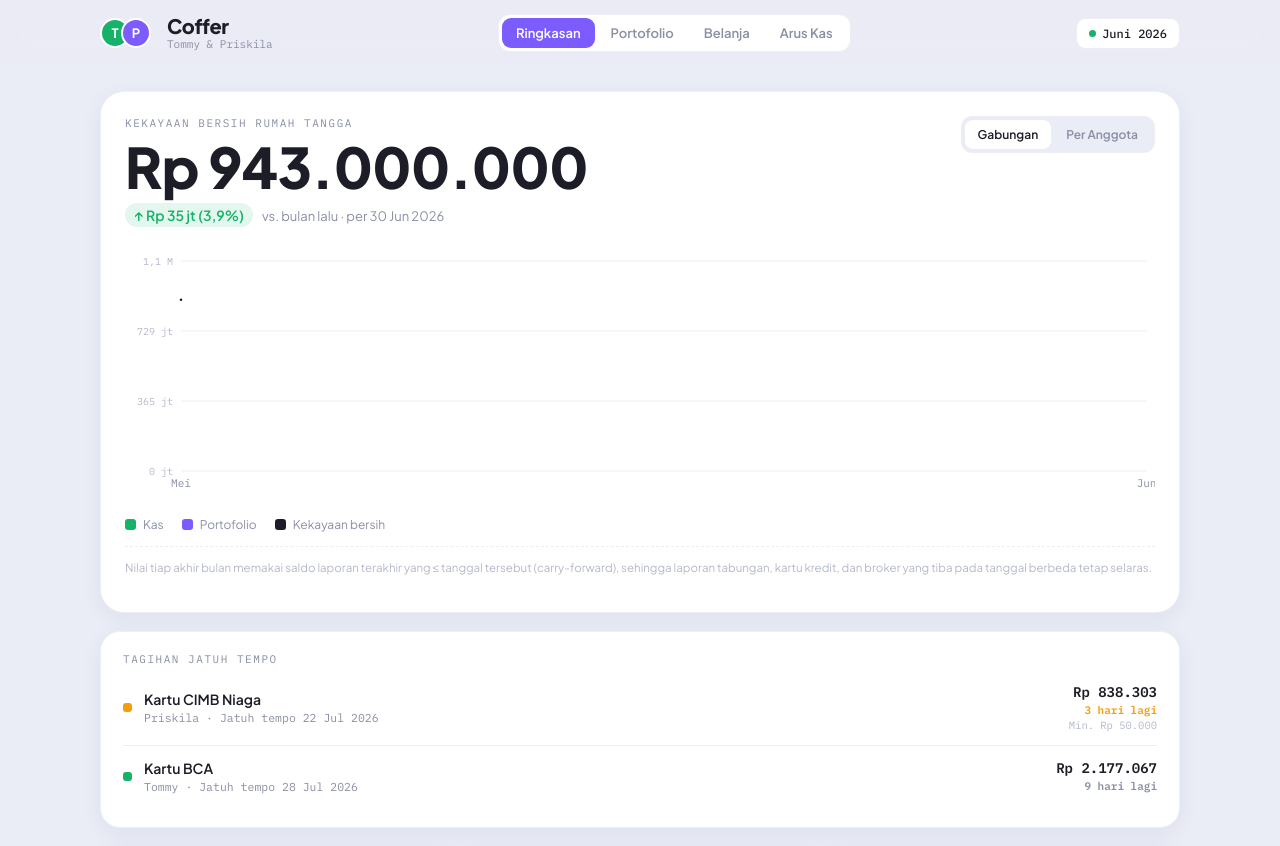
Test: App / Ringkasan › shows the savings rate, cash flow, and breakdown lists on Arus Kas
Expected: the heading "Rp 943.000.000" is shown, [125,138,588,195]
Click the button "Arus Kas".
click(806, 33)  # box [766,18,847,48]
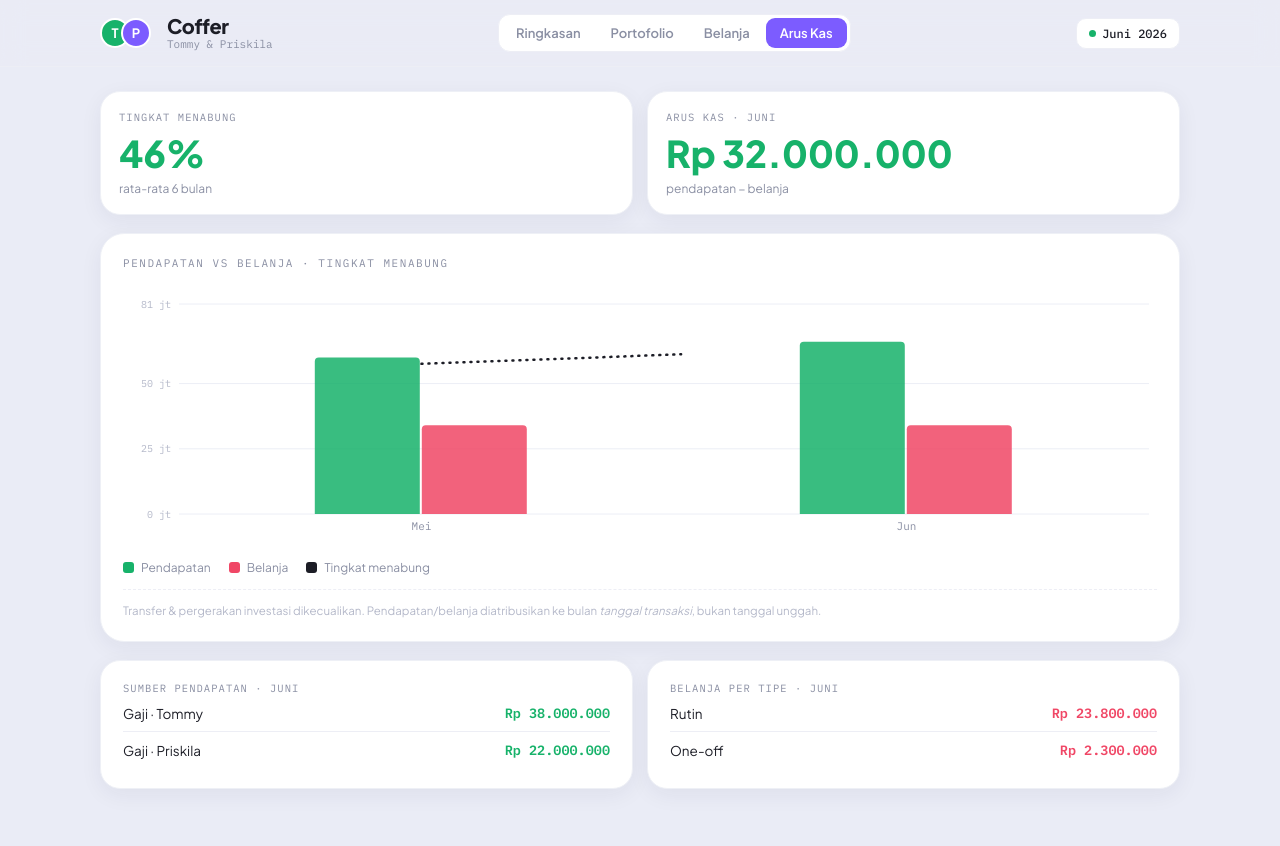
Expected: the text "46%" is shown, [119,130,205,176]
Expected: the text "Rp 32.000.000" is shown, [666,130,952,176]
Expected: the text "Arus Kas · Juni" is shown, [666,110,776,124]
